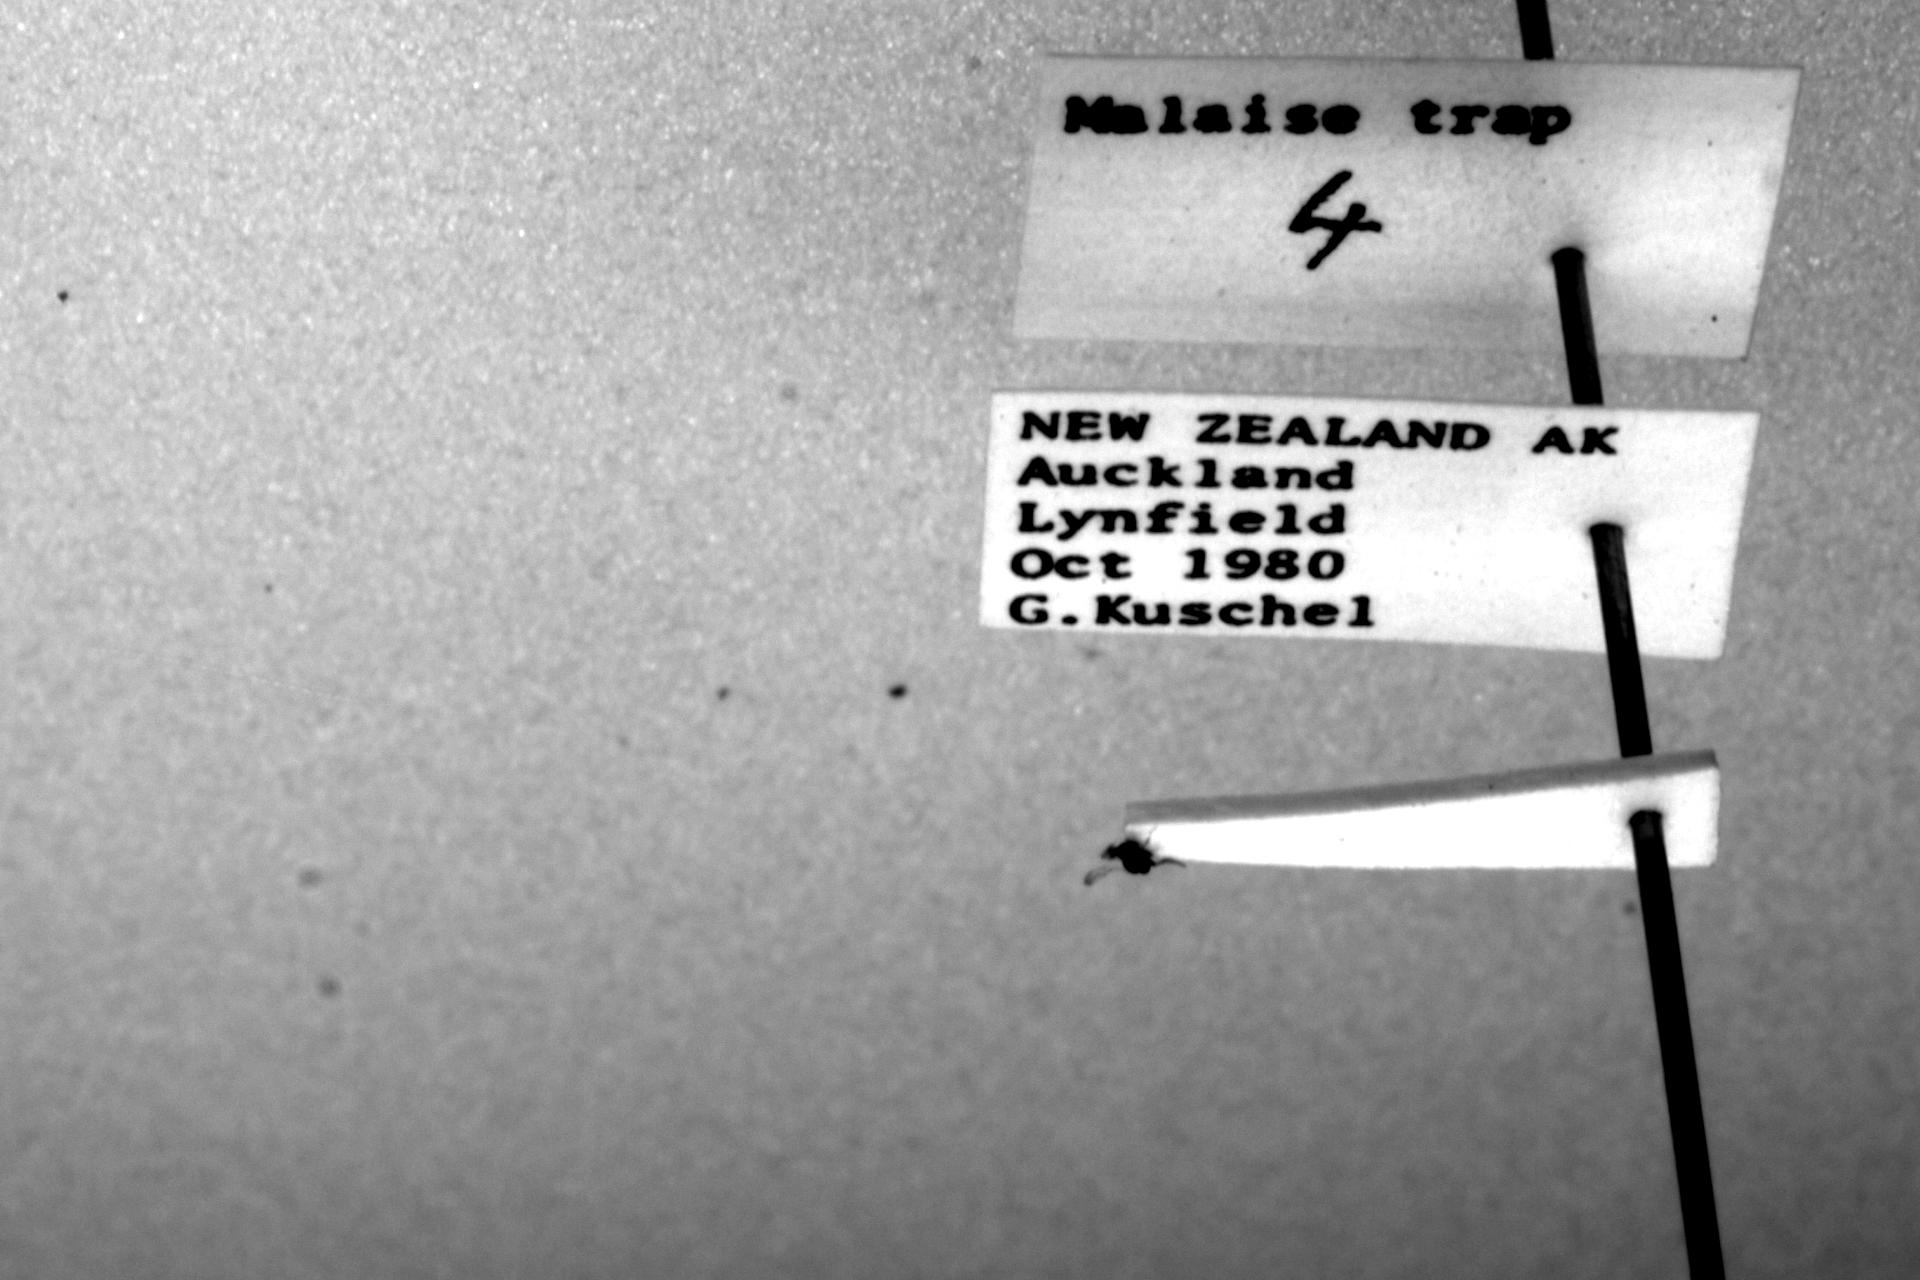mixed_label: (1016, 56, 1800, 356)
typed_label: (979, 390, 1759, 660)
